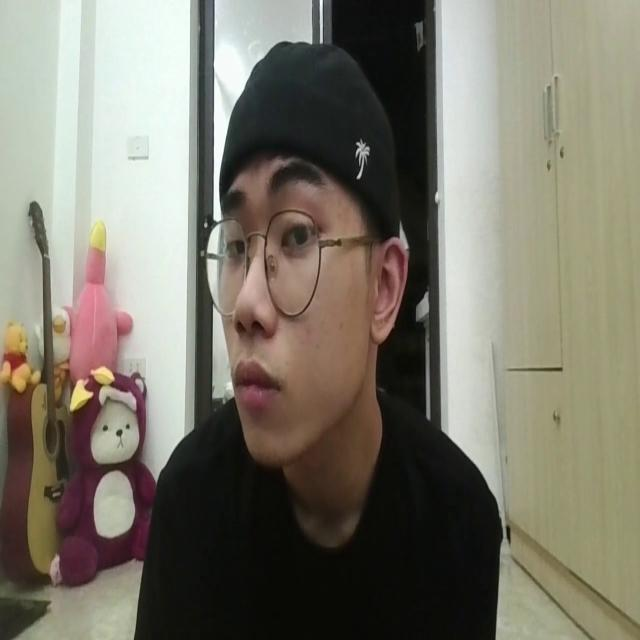student: (141, 37, 503, 640)
